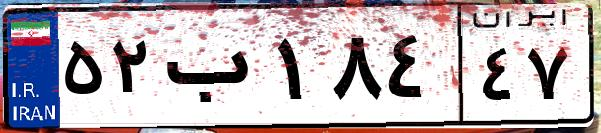1: (270, 28, 330, 110)
2: (110, 28, 158, 98)
4: (385, 28, 445, 110), (475, 38, 525, 113)
5: (57, 26, 110, 100)
7: (525, 38, 570, 115)
8: (330, 28, 385, 110)
ب: (158, 20, 270, 120)
